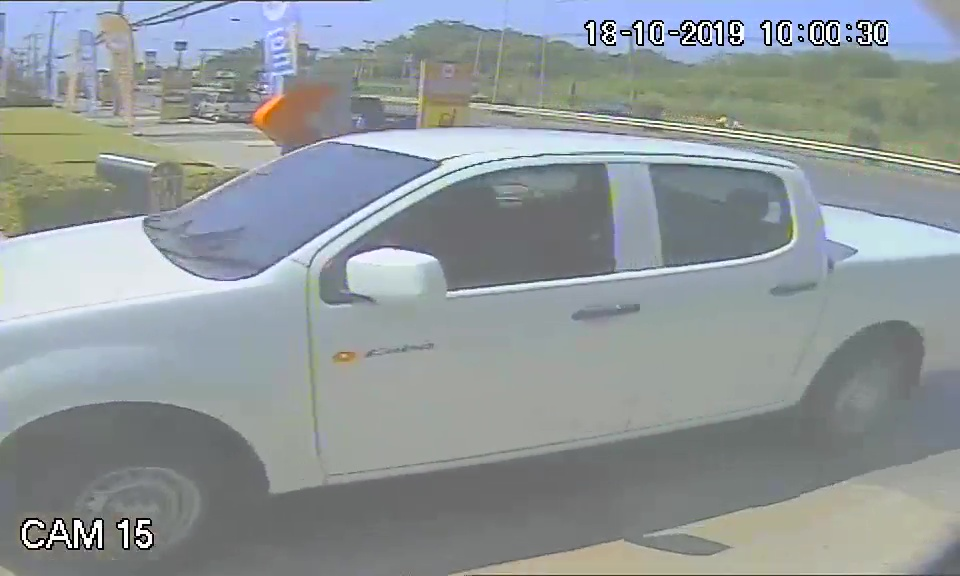pickup: (4, 125, 960, 497)
